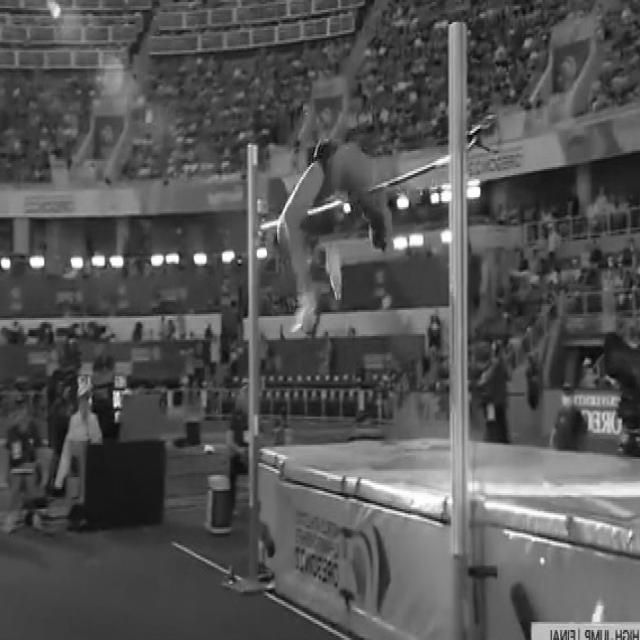jump: (279, 101, 412, 326)
